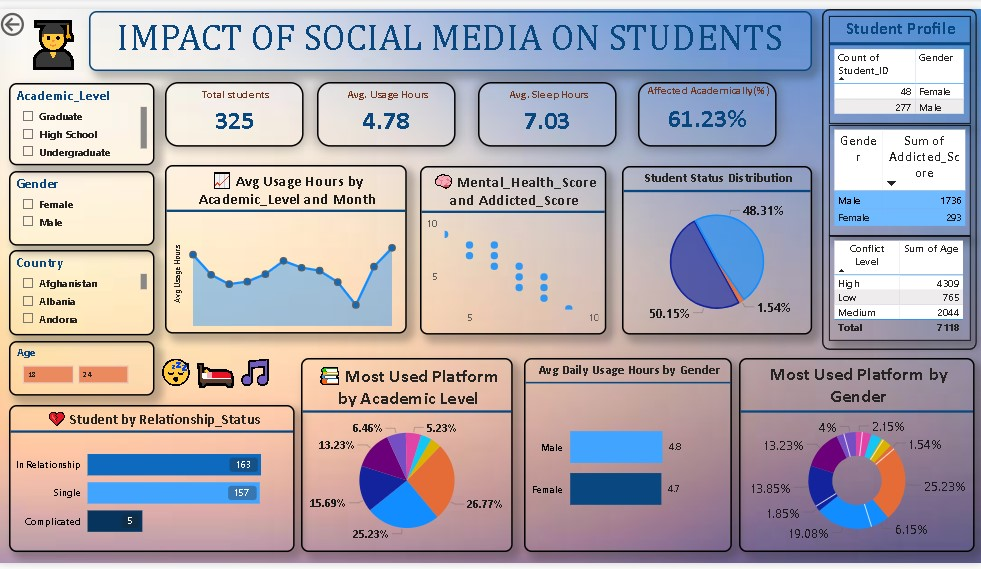

The dashboard page shown, as its layout file describes it:
{"tool":"powerbi","page":{"name":"Dashboard","canvas":[1280,720],"ordinal":0},"visuals":[{"type":"card","title":"Total students","fields":{"Values":["Date_Table.Total Students"]},"box":[218.7,94.5,180.2,83.5],"z":0},{"type":"card","title":"Avg. Usage Hours","fields":{"Values":["Date_Table.Avg Usage Hours"]},"box":[415.4,94.5,180.2,83.5],"z":1000},{"type":"card","title":"Affected Academically(%)","fields":{"Values":["Date_Table.% Affected Academically"]},"box":[833,94.5,180.2,83.5],"z":2000},{"type":"card","title":"Avg. Sleep Hours","fields":{"Values":["Date_Table.Avg Sleep Hours"]},"box":[625.3,94.5,180.2,83.5],"z":3000},{"type":"slicer","title":"Gender","fields":{"Values":["Student Details.Gender"]},"box":[15.4,209.9,189,96.7],"z":4000},{"type":"slicer","title":"Age","fields":{"Values":["Student Details.Age"]},"box":[15.4,430.8,189,71.4],"z":5000},{"type":"slicer","title":"Country","fields":{"Values":["Student Details.Country"]},"box":[15.4,313.2,189,111],"z":6000},{"type":"slicer","title":"Academic_Level","fields":{"Values":["Student Details.Academic_Level"]},"box":[15.4,95.6,189,106.6],"z":7000},{"type":"areaChart","title":"📈 Avg Usage Hours by Academic_Level and Month","fields":{"Category":["Student Details.Academic_Level","Date_Table.Month"],"Y":["Date_Table.Avg Usage Hours"]},"box":[218.2,202.6,314.3,219.5],"z":8000},{"type":"scatterChart","title":"🧠 Mental_Health_Score and Addicted_Score","fields":{"X":["Student Details.Mental_Health_Score"],"Y":["Student Details.Addicted_Score"]},"box":[549.4,203.9,241.6,219.5],"z":9000},{"type":"barChart","title":"💔  Student by Relationship_Status","fields":{"Category":["Student Details.Relationship_Status"],"Y":["CountNonNull(Student Details.Student_ID)"]},"box":[15.6,514.3,371.4,190.9],"z":10000},{"type":"pieChart","title":"Student Status Distribution","fields":{"Category":["Student Details.Relationship_Status"],"Y":["CountNonNull(Student Details.Student_ID)"]},"box":[811.7,203.9,246.8,219.5],"z":11000},{"type":"barChart","title":"Avg Daily Usage Hours by Gender","fields":{"Category":["Student Details.Gender"],"Y":["Platform Details.Avg Usage hour"]},"box":[684.4,453.2,270.1,251.9],"z":12000},{"type":"donutChart","title":"Most Used Platform by Gender","fields":{"Category":["Platform Details.Most_Used_Platform"],"Y":["CountNonNull(Platform Details.Student_ID)"],"Series":["Student Details.Gender"]},"box":[963.6,453.2,306.5,251.9],"z":13000},{"type":"pieChart","title":"📚 Most Used Platform by Academic Level","fields":{"Category":["Platform Details.Most_Used_Platform"],"Y":["CountNonNull(Platform Details.Student_ID)"],"Series":["Student Details.Academic_Level"]},"box":[394.8,453.2,275.3,251.9],"z":14000},{"type":"actionButton","box":[0,0,100,40],"z":15000},{"type":"tableEx","title":"Student Profile","fields":{"Values":["Student Details.Student_ID","Student Details.Gender"]},"box":[1080.5,9.1,184.4,140.3],"z":16000},{"type":"shape","box":[1071.4,0,201.3,442.9],"z":17000},{"type":"tableEx","fields":{"Values":["Student Details.Gender","Sum(Student Details.Addicted_Score)"]},"box":[1080.5,150.6,184.4,144.2],"z":18000},{"type":"tableEx","fields":{"Values":["Student Details.Conflict Level","Sum(Student Details.Age)"]},"box":[1080.5,294.8,184.4,136.4],"z":19000},{"type":"textbox","box":[119.5,2.6,939,77.9],"z":20000},{"type":"textbox","box":[33.8,0,85.7,94.8],"z":21000},{"type":"textbox","box":[205.2,431.2,170.1,83.1],"z":22000},{"type":"textbox","box":[342.9,431.2,87,83.1],"z":23000}]}

Visuals, with their boxes on the page's 1280x720 design canvas (x1, y1, x2, y2). These are canvas units, not pixel positions in the 981x569 screenshot, which may show the page scaled, cropped or inside an application window:
"Total students" card: locate(219, 94, 399, 178)
"Avg. Usage Hours" card: locate(415, 94, 596, 178)
"Affected Academically(%)" card: locate(833, 94, 1013, 178)
"Avg. Sleep Hours" card: locate(625, 94, 806, 178)
"Gender" slicer: locate(15, 210, 204, 307)
"Age" slicer: locate(15, 431, 204, 502)
"Country" slicer: locate(15, 313, 204, 424)
"Academic_Level" slicer: locate(15, 96, 204, 202)
"📈 Avg Usage Hours by Academic_Level and Month" areaChart: locate(218, 203, 532, 422)
"🧠 Mental_Health_Score and Addicted_Score" scatterChart: locate(549, 204, 791, 423)
"💔  Student by Relationship_Status" barChart: locate(16, 514, 387, 705)
"Student Status Distribution" pieChart: locate(812, 204, 1058, 423)
"Avg Daily Usage Hours by Gender" barChart: locate(684, 453, 954, 705)
"Most Used Platform by Gender" donutChart: locate(964, 453, 1270, 705)
"📚 Most Used Platform by Academic Level" pieChart: locate(395, 453, 670, 705)
actionButton: locate(0, 0, 100, 40)
"Student Profile" tableEx: locate(1080, 9, 1265, 149)
shape: locate(1071, 0, 1273, 443)
tableEx - Student Details.Gender x Sum(Student Details.Addicted_Score): locate(1080, 151, 1265, 295)
tableEx - Student Details.Conflict Level x Sum(Student Details.Age): locate(1080, 295, 1265, 431)
textbox: locate(120, 3, 1058, 80)
textbox: locate(34, 0, 120, 95)
textbox: locate(205, 431, 375, 514)
textbox: locate(343, 431, 430, 514)
